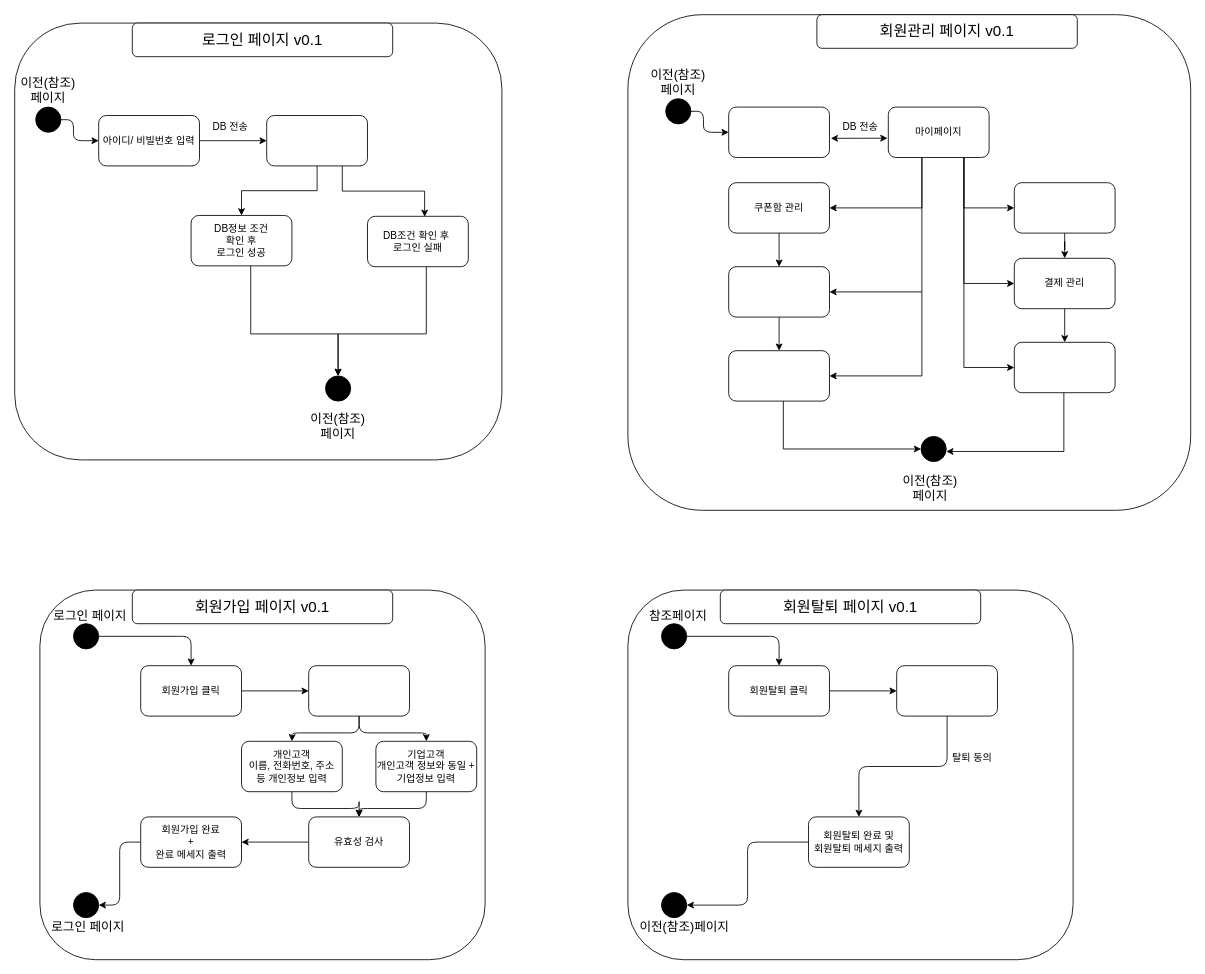
This 1205x974 diagram has some shape labels left out. Each missing label, with the centre of its shape:
"개인 및 기업 정보관리" belongs at pixel 1064 207.
"로그인 시도" belongs at pixel 317 140.
"예약 관리" belongs at pixel 1064 367.
"이용 내역 및 후기 작성 관리" belongs at pixel 779 291.
"이용약관 동의" belongs at pixel 359 690.
"장바구니 관리" belongs at pixel 779 375.
"회원정보" belongs at pixel 779 132.
"회원탈퇴 안내문 및 유의사항 출력 (탈퇴사유)" belongs at pixel 947 690.
